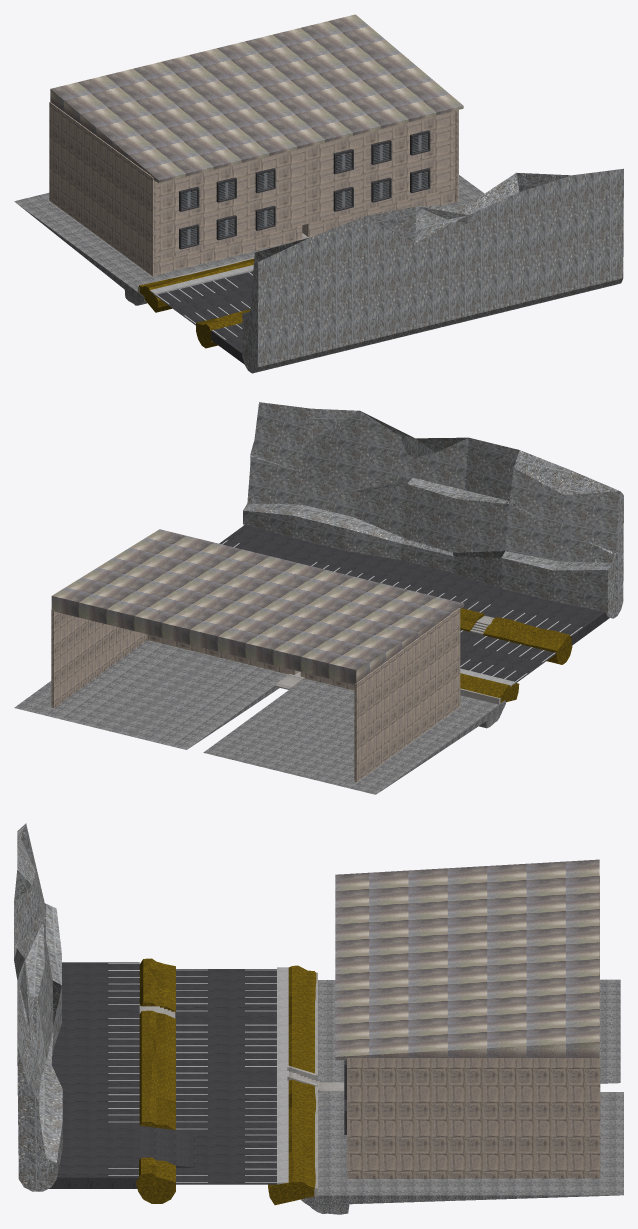
File: job corp world set.glb
The picture shows the model from 3 angles, top to bottom: view 1: azimuth 30°, elevation 25°; view 2: azimuth 150°, elevation 25°; view 3: azimuth 270°, elevation 25°; orthographic projection. The views are drawn at different scales.
Visible parts, largest first — view 1: mountain-col, building roof-col, Building Wall front-col, Building Wall left-col, Hill 4-col, Floor-col.001, Building Wall front-col.002, Building Wall front-col.001, Hill 3-col, Floor-col, Hill 2-col.001, Sidewalk-col (+1 smaller); view 2: mountain-col, building roof-col, Hill 3-col.001, Hill 4-col, Building Wall left-col, Floor-col, building wall right-col, Floor-col.001, Hill 2-col.001, Hill 3-col, Building Wall front-col.001; view 3: building roof-col, building wall right-col, Floor-col.001, Floor-col, mountain-col, Hill 3-col.001, Hill 4-col, Hill 1-col, Hill 2-col.002, Hill 3-col, Sidewalk-col, FloorRamp-col (+2 smaller).
Boxes of the visible parts, bbox=[...] form: mountain-col: bbox=[242, 168, 623, 373]; building roof-col: bbox=[50, 14, 463, 182]; Building Wall front-col: bbox=[144, 110, 455, 260]; Building Wall left-col: bbox=[49, 102, 155, 276]; Hill 4-col: bbox=[14, 193, 297, 305]; Floor-col.001: bbox=[154, 271, 253, 331]; Building Wall front-col.002: bbox=[155, 225, 302, 275]; Building Wall front-col.001: bbox=[302, 188, 455, 237]; Hill 3-col: bbox=[139, 258, 254, 312]; Floor-col: bbox=[210, 323, 244, 364]; Hill 2-col.001: bbox=[196, 309, 250, 348]; Sidewalk-col: bbox=[150, 265, 253, 294]; mountain-col: bbox=[243, 402, 623, 618]; building roof-col: bbox=[51, 529, 464, 684]; Hill 3-col.001: bbox=[14, 640, 288, 749]; Hill 4-col: bbox=[203, 678, 505, 794]; Building Wall left-col: bbox=[354, 608, 460, 781]; Floor-col: bbox=[219, 524, 609, 645]; building wall right-col: bbox=[51, 609, 147, 707]; Floor-col.001: bbox=[460, 629, 570, 683]; Hill 2-col.001: bbox=[483, 617, 572, 664]; Hill 3-col: bbox=[460, 673, 519, 702]; Building Wall front-col.001: bbox=[147, 634, 299, 674]; building roof-col: bbox=[335, 859, 599, 1060]; building wall right-col: bbox=[347, 1056, 600, 1178]; Floor-col.001: bbox=[175, 969, 277, 1184]; Floor-col: bbox=[49, 962, 139, 1188]; mountain-col: bbox=[14, 823, 62, 1191]; Hill 3-col.001: bbox=[301, 1092, 623, 1214]; Hill 4-col: bbox=[318, 979, 620, 1083]; Hill 1-col: bbox=[139, 1010, 175, 1129]; Hill 2-col.002: bbox=[268, 1079, 315, 1205]; Hill 3-col: bbox=[288, 965, 316, 1073]; Sidewalk-col: bbox=[277, 967, 288, 1184]; FloorRamp-col: bbox=[139, 1126, 196, 1167].
Size of the model in its own units: 85.19 by 35.48 by 101.
113 materials, 113 textured.
